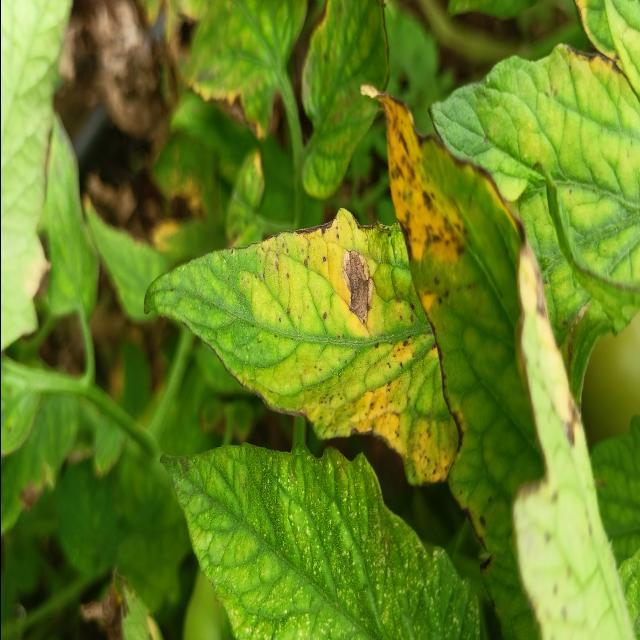Tomato mosaic virus leaf: (136, 203, 418, 447)
